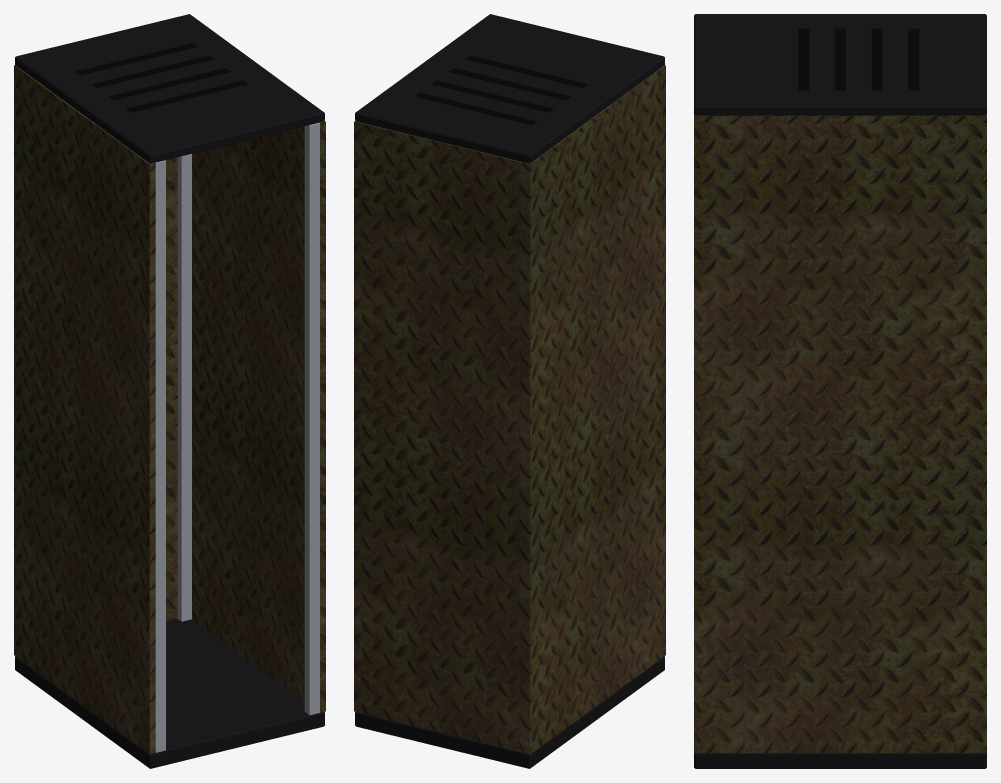
The model's file is rack_frame.glb.
3 renders of one model, left to right at view 1: azimuth 30°, elevation 25°; view 2: azimuth 150°, elevation 25°; view 3: azimuth 270°, elevation 25°, orthographic. The views are drawn at different scales.
Parts seen in each view (by area): view 1: RackFrame; view 2: RackFrame; view 3: RackFrame.
Part boxes in pixels (x1,y1,x2,y2): RackFrame: (14,14,325,768); RackFrame: (354,14,665,768); RackFrame: (694,14,986,768).
Bounding box in the file's own units: 0.6 × 2 × 0.8.
Materials: 4 (1 with a texture image).
